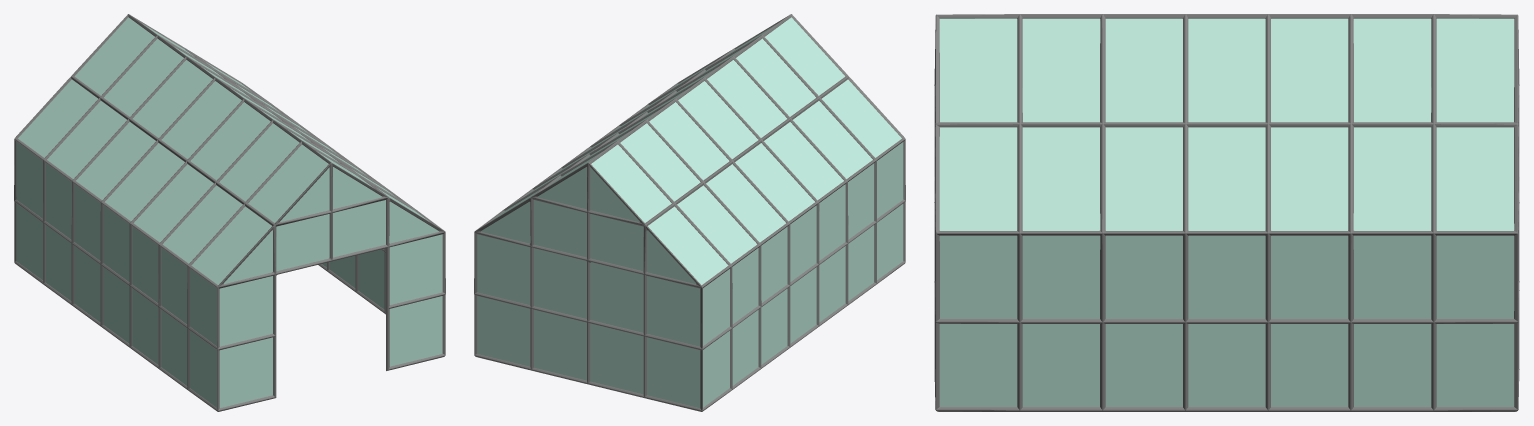
The model's file is Greenhouse.fbx.
3 views of the same model, side by side, from view 1: azimuth 30°, elevation 25°; view 2: azimuth 150°, elevation 25°; view 3: azimuth 270°, elevation 25° (orthographic). The views are drawn at different scales.
Visible parts, largest first — view 1: Greenhouse; view 2: Greenhouse; view 3: Greenhouse.
Part boxes in pixels (x1,y1,x2,y2): Greenhouse: (14,14,445,411); Greenhouse: (474,14,905,411); Greenhouse: (934,14,1519,411).
Size of the model in its own units: 461 by 711 by 427.
